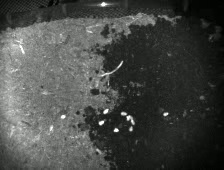corn: (46, 122, 55, 133), (126, 125, 136, 133), (161, 110, 171, 118), (97, 119, 106, 127), (101, 107, 110, 115), (119, 110, 129, 117), (129, 117, 136, 126), (112, 127, 121, 134), (59, 113, 67, 120), (127, 113, 134, 120), (125, 114, 131, 122)
